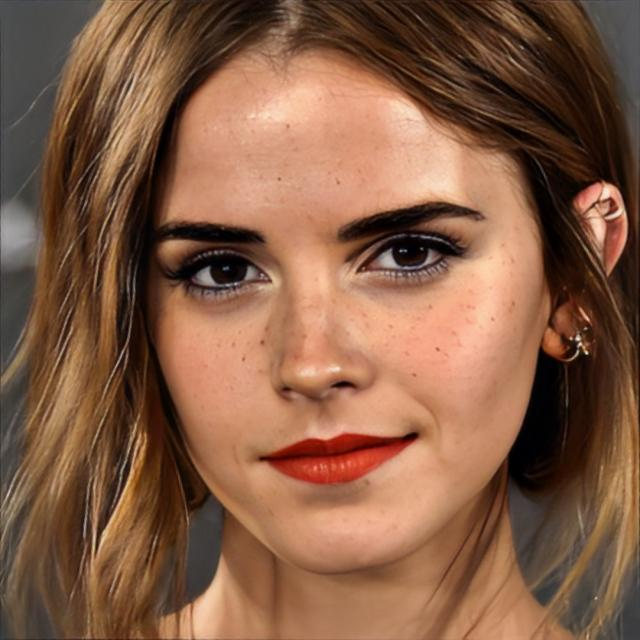content: (141, 38, 544, 570)
